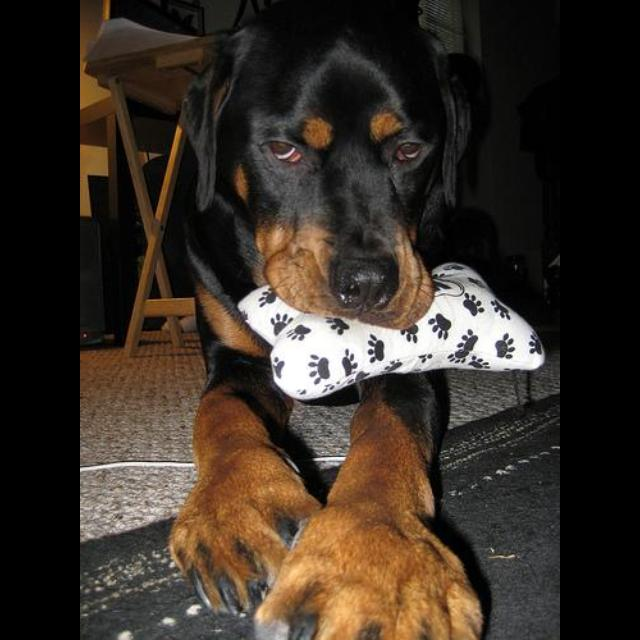person: (169, 1, 546, 639)
